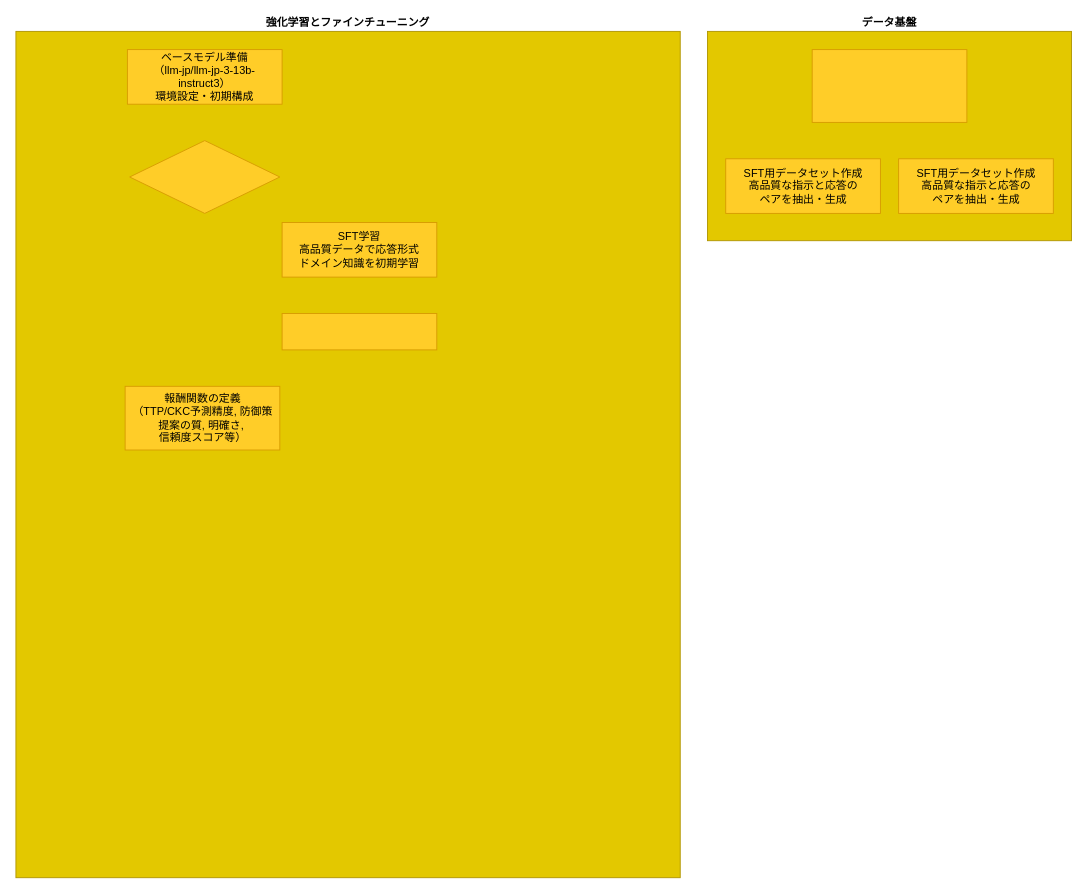
Image size: 1087x894. Some labels were removed from this diagram. Each missing label, with the centre of its shape:
SFT済みLLMモデル: point 359,331
マスター学習データセット (準備したATTACK情報, SIEMログ, 補足データなど): point 889,85
教師ありファイン チューニング（SFT）: point 204,176
